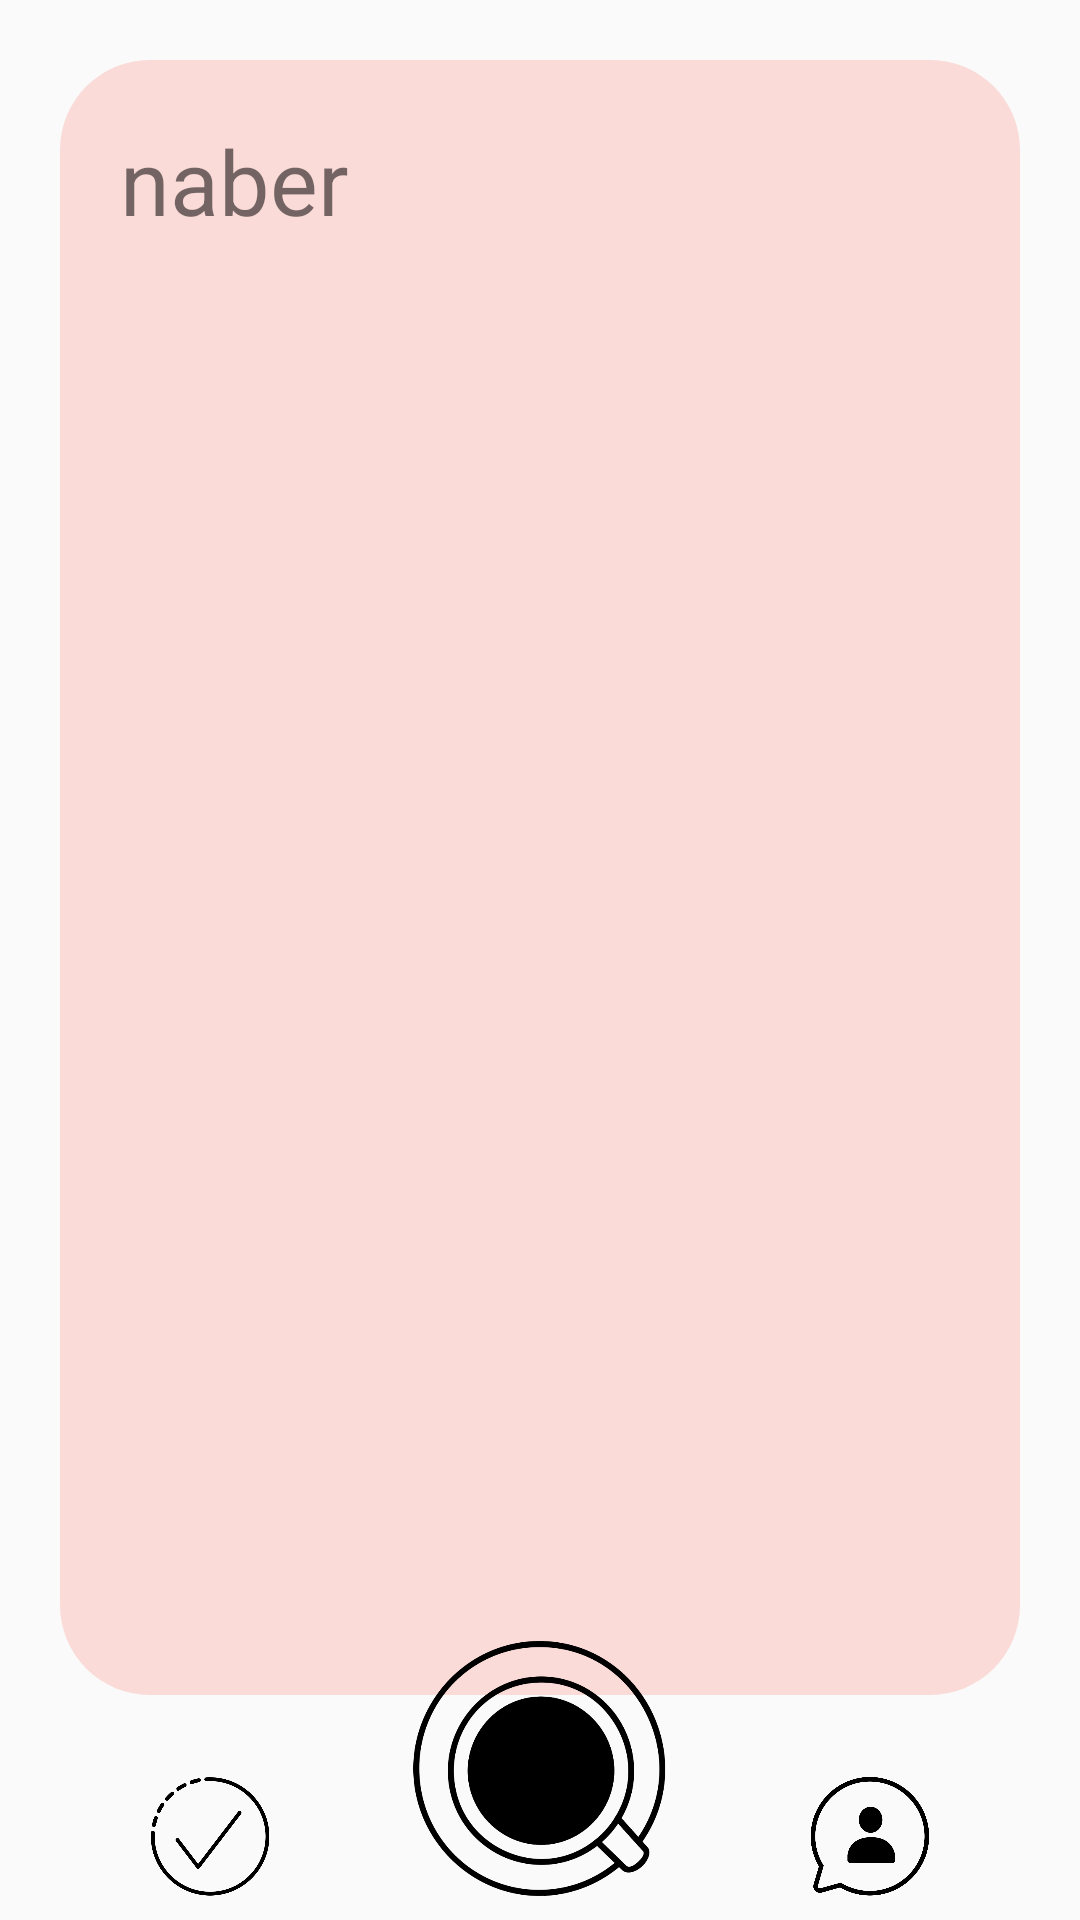

Point at icon controls on the screen. Image size 1080×1920, points as point (x, y).
arkadaslar: point (870, 1836)
yapilan: point (210, 1836)
